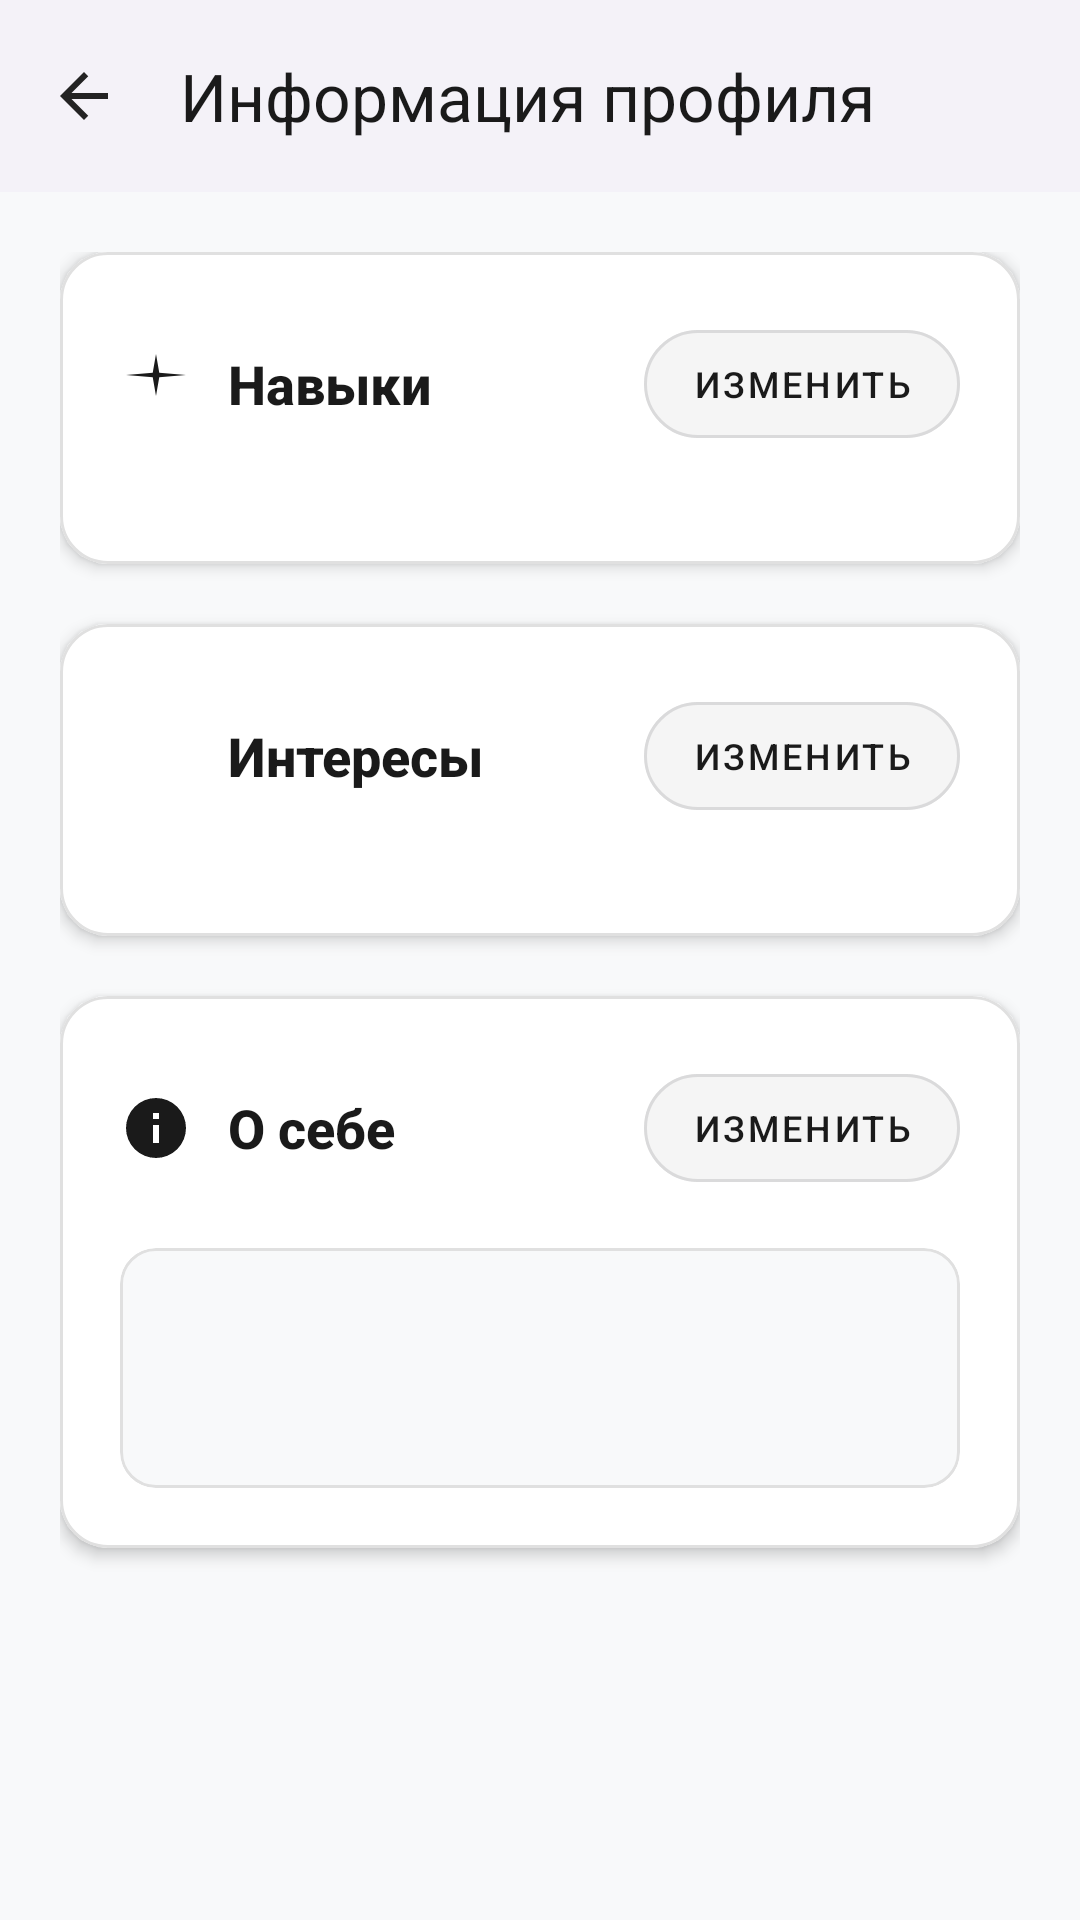

Named icons in this screenshot (1080w x 1920h) and their bounding boxes, [x1, y1, x2, y2]:
info: [126, 1098, 186, 1158]
skills: [127, 355, 185, 395]
